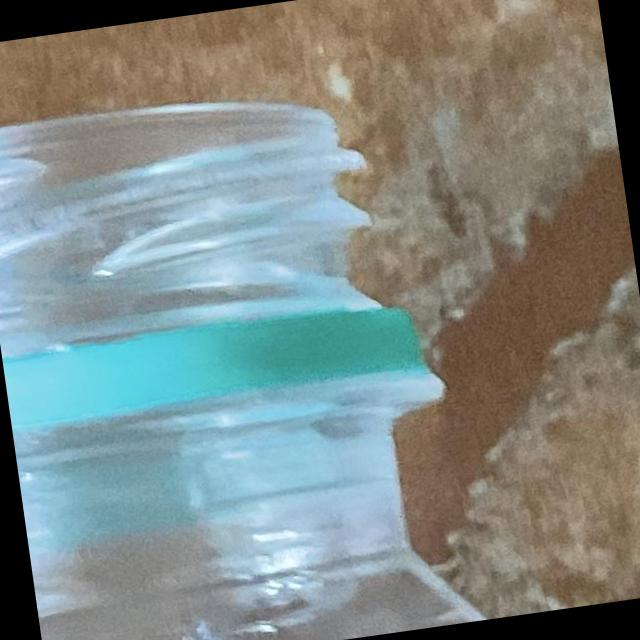open-cap: (0, 64, 434, 455)
